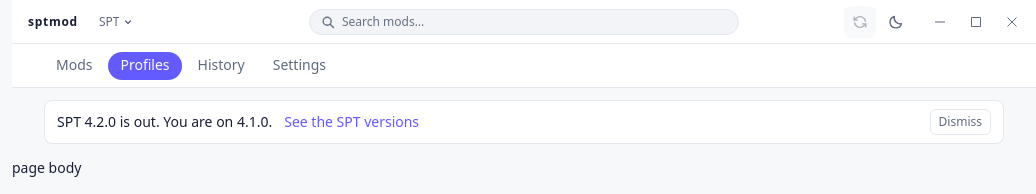
Scenario: the SPT notice › forgets the release the player dismissed
Expected: the text "SPT 4.2.0 is out. You are on 4.1.0." is shown, [57, 112, 272, 132]
What coordinates should you click on to do the following:
click the button "Dismiss"
I would click on:
 (960, 122)
Its box is [930, 109, 991, 135].
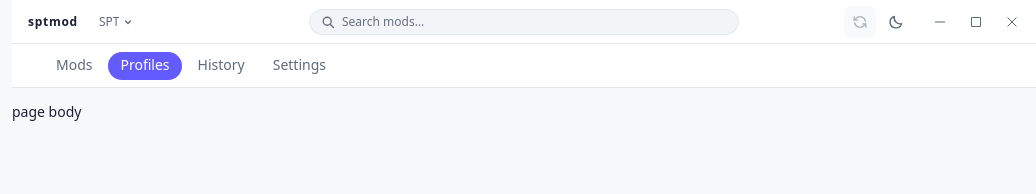
Expected: the text "SPT 4.2.0 is out. You are on 4.1.0." is gone
